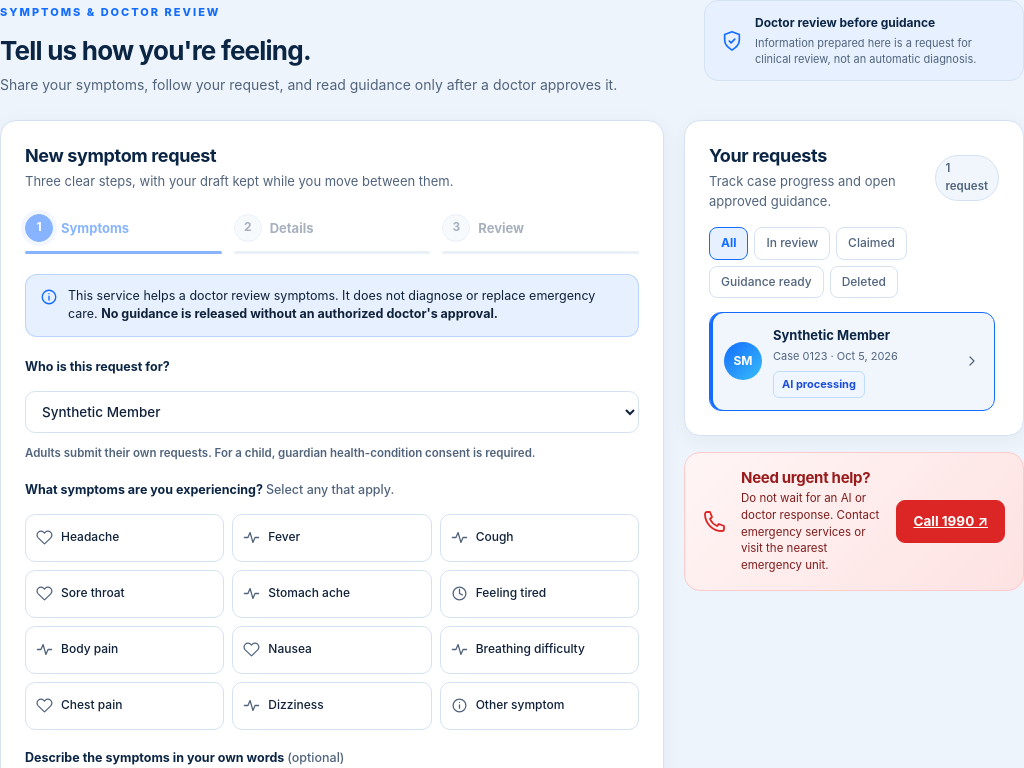
Test case: patient request popup › refreshes server capabilities after review wins a withdrawal race
Click the button "SM Synthetic Member Case 0123 · Oct 5, 2026 AI processing" at (852, 361), box 709,312 -> 995,410
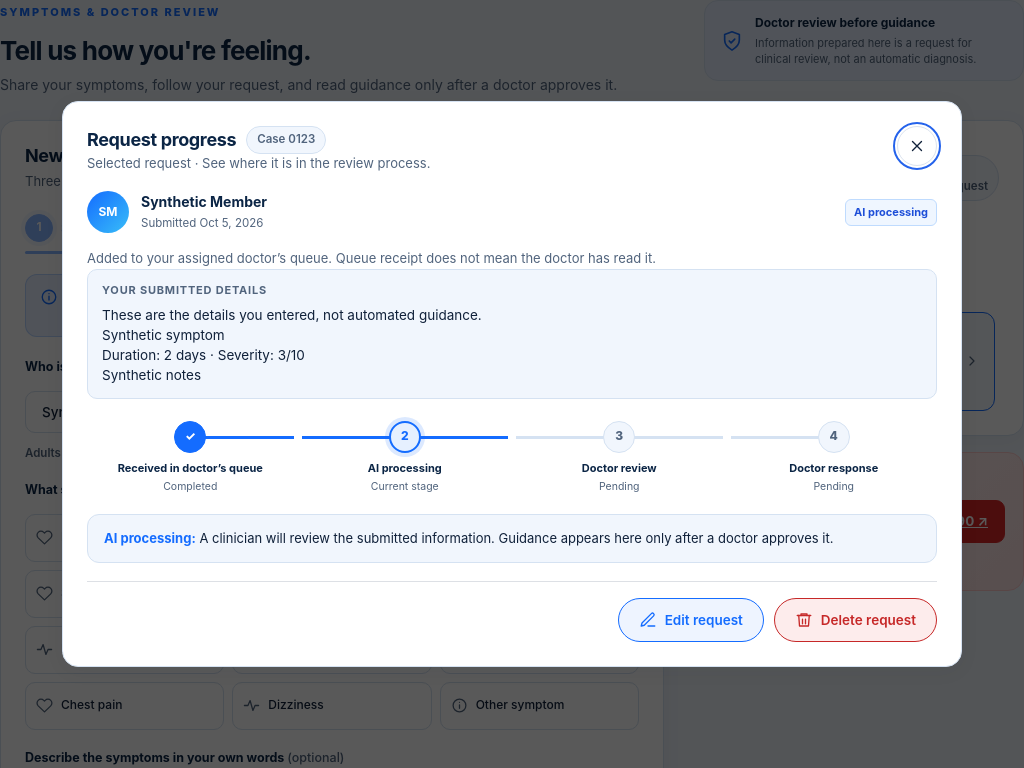
Click the button "Delete request" at (855, 620), box 774,598 -> 937,642
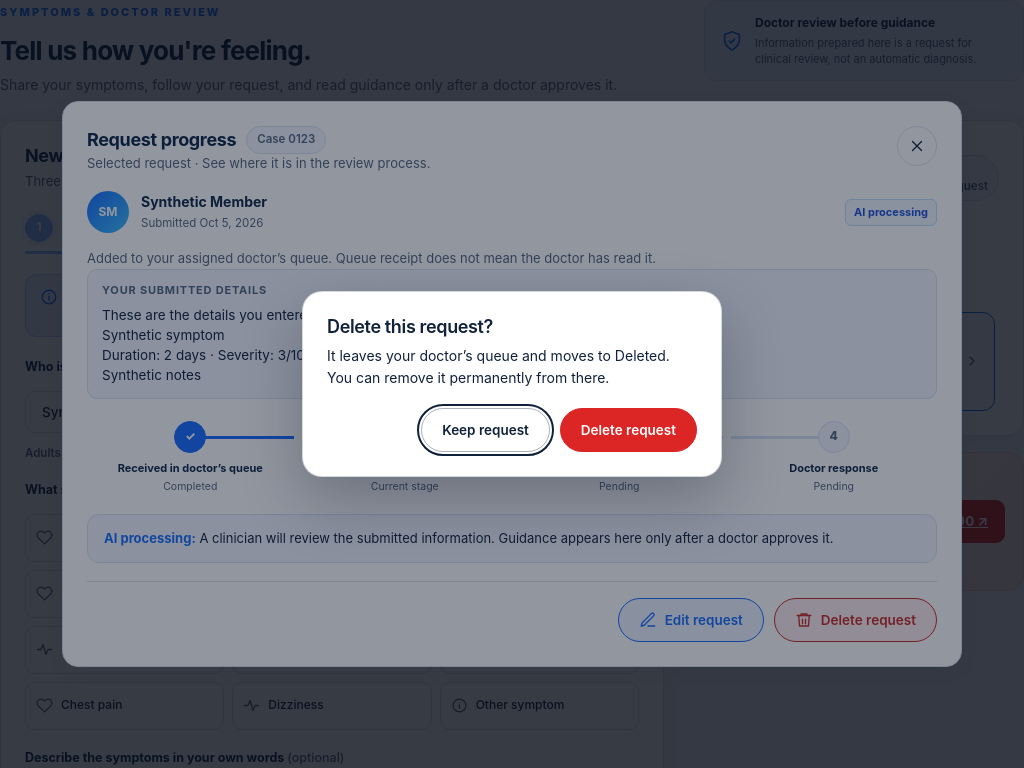
Click the button "Delete request" at (628, 430), box 560,408 -> 697,452
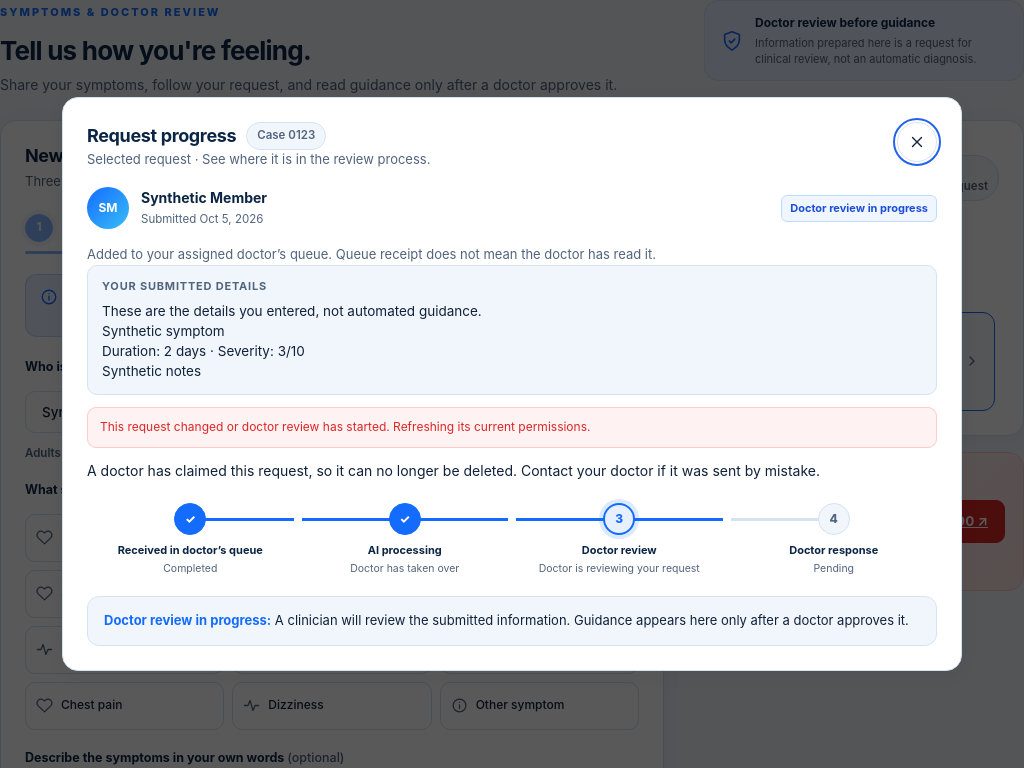
Result: the text "This request changed or doctor review has started" is shown at 100,419 -> 590,434
Result: the button "Edit request" is gone
Result: the button "Delete request" is gone
